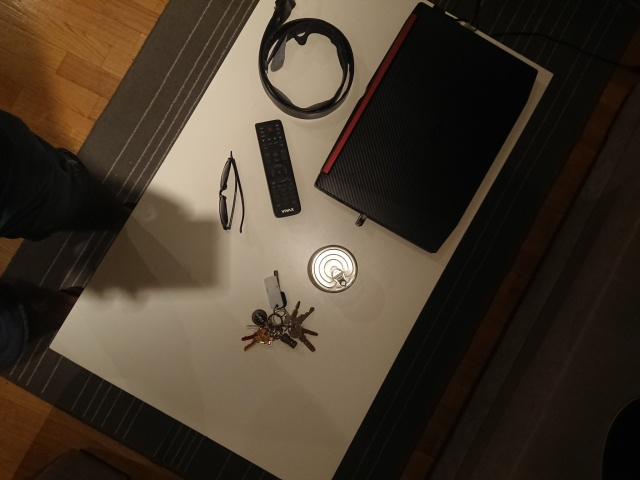Giana Tuna Salad Mexico 185g: (304, 242, 360, 296)
